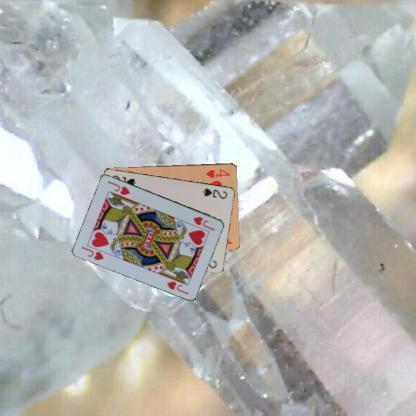2s: (200, 185, 229, 200)
4h: (204, 167, 233, 179)
Jh: (79, 242, 109, 261), (191, 214, 216, 232)
